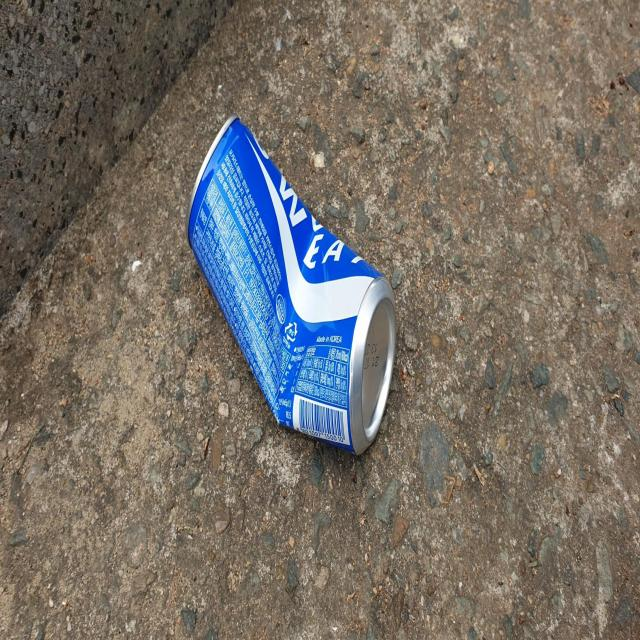can: (186, 114, 397, 454)
